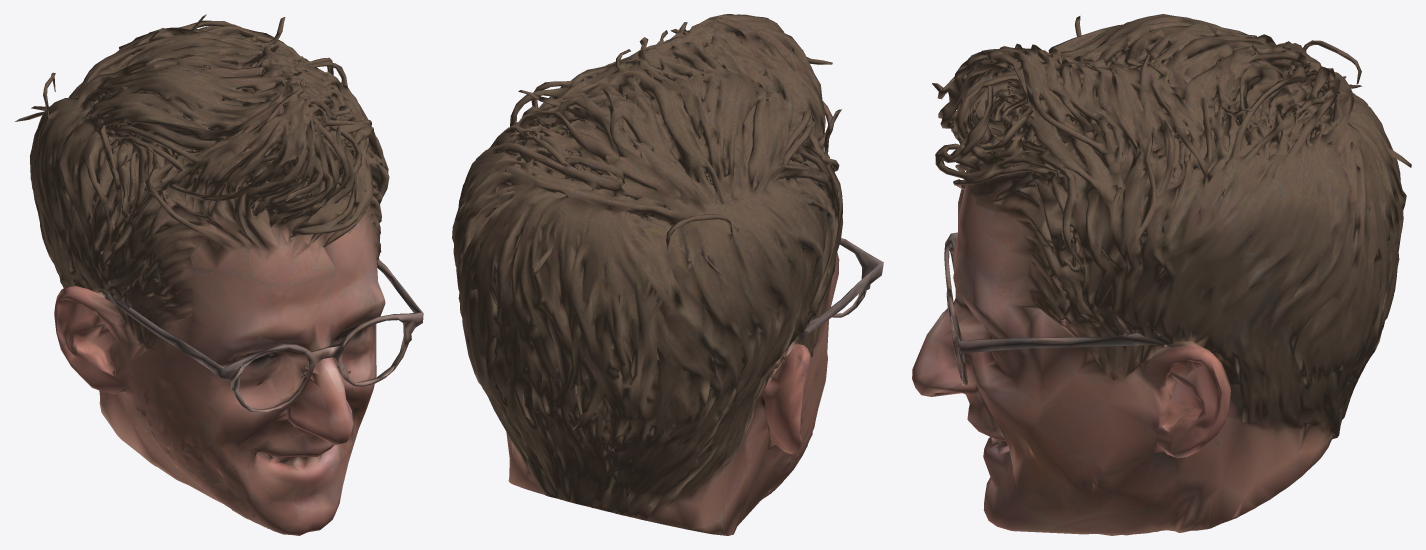
File: head_dillon.glb
3 views of the same model, side by side, from view 1: azimuth 30°, elevation 25°; view 2: azimuth 150°, elevation 25°; view 3: azimuth 270°, elevation 25° (orthographic). The views are drawn at different scales.
Parts seen in each view (by area): view 1: Mesh_0; view 2: Mesh_0; view 3: Mesh_0.
Boxes of the visible parts, x1=… form: Mesh_0: x1=15, y1=14, x2=423, y2=535; Mesh_0: x1=452, y1=14, x2=883, y2=535; Mesh_0: x1=912, y1=14, x2=1411, y2=535.
Bounding box in the file's own units: 0.504 × 0.7171 × 0.6569.
1 material, 1 textured.
